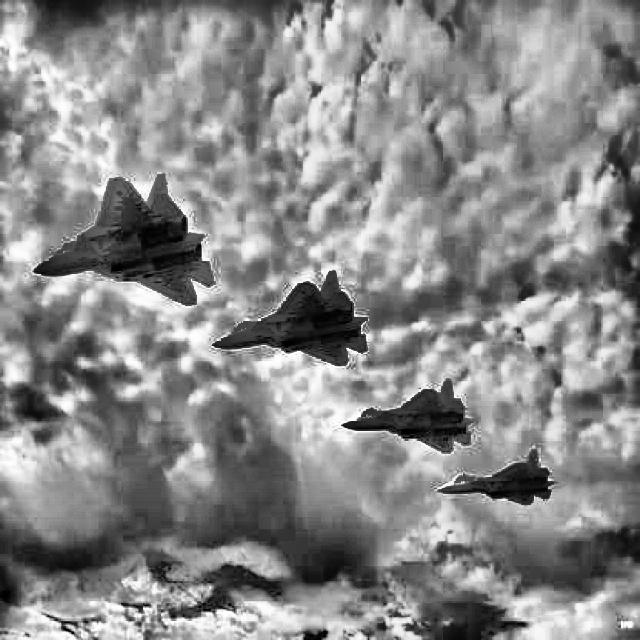Su57: (32, 173, 216, 307), (210, 270, 368, 367), (340, 378, 474, 454), (437, 448, 557, 506)
